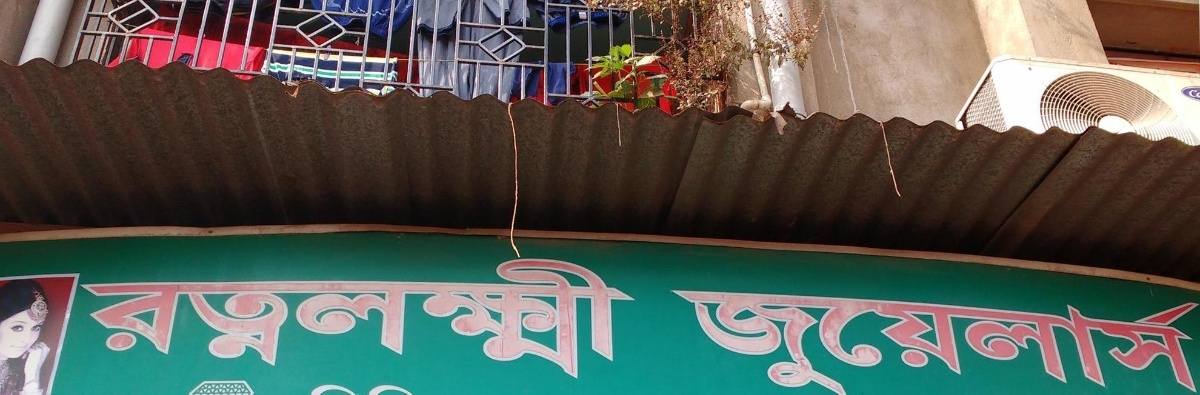text: (81, 249, 96, 387), (97, 249, 112, 387), (113, 249, 128, 387), (129, 249, 144, 387), (145, 249, 160, 387), (161, 249, 176, 387), (177, 249, 192, 387), (193, 249, 208, 387), (209, 249, 224, 387), (225, 249, 240, 387), (241, 249, 256, 387), (257, 249, 272, 387), (273, 249, 288, 387), (289, 249, 304, 387), (305, 249, 320, 387), (321, 249, 336, 387), (337, 249, 352, 387), (353, 249, 368, 387), (369, 249, 384, 387), (385, 249, 400, 387), (401, 249, 416, 387), (417, 249, 432, 387), (433, 249, 448, 387), (449, 249, 464, 387), (465, 249, 480, 387), (481, 249, 496, 387), (497, 249, 512, 387), (513, 249, 528, 387), (529, 249, 544, 387), (545, 249, 560, 387), (561, 249, 576, 387), (577, 249, 592, 387), (593, 249, 608, 387), (609, 249, 624, 387), (625, 249, 640, 387), (673, 274, 688, 395), (689, 274, 704, 395), (705, 274, 720, 395), (721, 274, 736, 395), (737, 274, 752, 395), (753, 274, 768, 395), (769, 274, 784, 395), (785, 274, 800, 395), (801, 274, 816, 395), (817, 274, 832, 395), (833, 274, 848, 395), (849, 274, 864, 395), (865, 274, 880, 395), (881, 274, 896, 395), (897, 274, 912, 395), (913, 274, 928, 395), (929, 274, 944, 395), (945, 274, 960, 395), (961, 274, 976, 395), (977, 274, 992, 395), (993, 274, 1008, 395), (1009, 274, 1024, 395), (1025, 274, 1040, 395), (1041, 274, 1056, 395), (1057, 274, 1072, 395), (1073, 274, 1088, 395), (1089, 274, 1104, 395), (1105, 274, 1120, 395), (1121, 274, 1136, 395), (1137, 274, 1152, 395), (1153, 274, 1168, 395), (1169, 274, 1184, 395), (1185, 274, 1199, 395), (665, 274, 672, 395), (641, 249, 647, 387), (193, 376, 208, 395), (209, 376, 224, 395), (225, 376, 240, 395), (241, 376, 256, 395), (257, 376, 272, 395), (273, 376, 288, 395), (289, 376, 304, 395), (305, 376, 320, 395), (321, 376, 336, 395), (337, 376, 352, 395), (353, 376, 368, 395), (369, 376, 384, 395), (385, 376, 400, 395), (401, 376, 416, 395), (417, 376, 424, 395), (187, 376, 192, 395)
